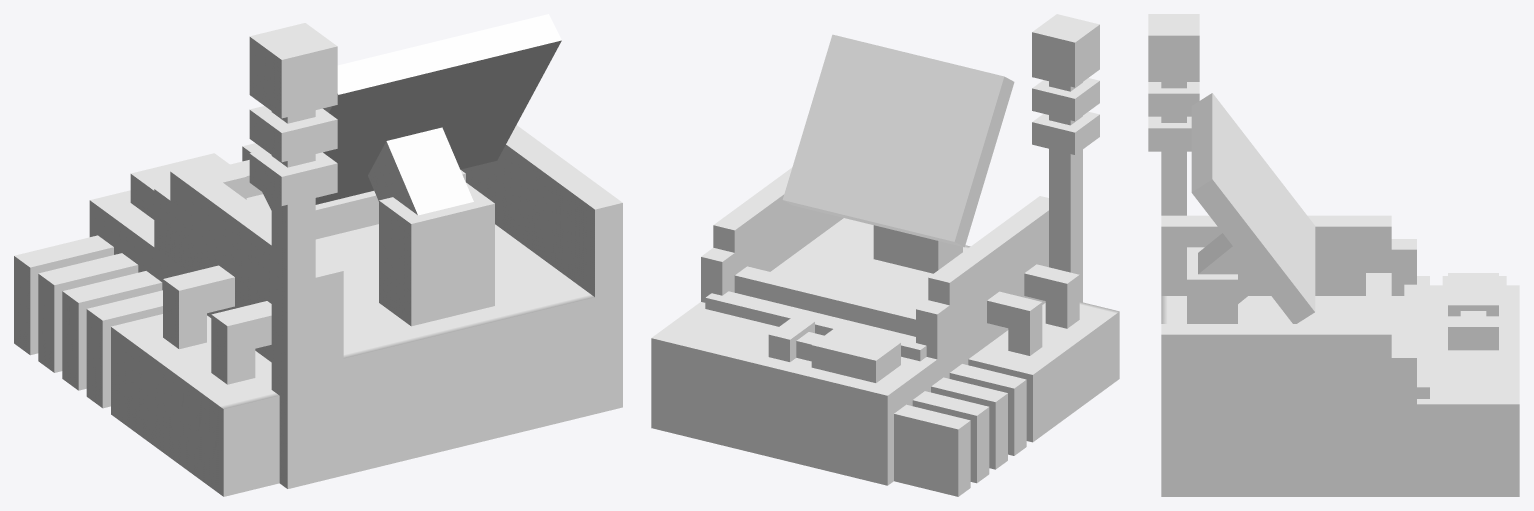
Rendered from radar_station.obj.
3 views of the same model, side by side, from view 1: azimuth 30°, elevation 25°; view 2: azimuth 150°, elevation 25°; view 3: azimuth 270°, elevation 25° (orthographic). The views are drawn at different scales.
Parts seen in each view (by area): view 1: Base, Panel, Battery, LeftPlate, Strut2, RightPlate, SignalPole, SignalRec, Strut1, BatRing2, BatRing3, BatRing4 (+10 smaller); view 2: Base, Panel, Battery, RightPlate, LeftPlate, BatRing4, BaseBump1, SignalPole, SignalRec, BaseBump2, PistonBody, Strut2 (+12 smaller); view 3: Base, LeftPlate, Panel, RightPlate, SignalRec, Strut2, BaseBump2, PistonBody, SignalPole, Strut1, PistonHead, SignalRing1 (+4 smaller).
Part boxes in pixels (x1,y1,x2,y2): Base: [89, 190, 622, 482]; Panel: [262, 14, 561, 210]; Battery: [111, 314, 279, 496]; LeftPlate: [461, 125, 622, 297]; Strut2: [379, 182, 494, 326]; RightPlate: [170, 164, 343, 365]; SignalPole: [271, 110, 315, 488]; SignalRec: [249, 23, 337, 118]; Strut1: [368, 127, 473, 215]; BatRing2: [62, 271, 162, 390]; BatRing3: [38, 253, 138, 372]; BatRing4: [14, 235, 113, 355]; Base: [651, 218, 1045, 485]; Panel: [782, 34, 1014, 247]; Battery: [968, 301, 1119, 442]; RightPlate: [928, 196, 1048, 349]; LeftPlate: [713, 167, 843, 274]; BatRing4: [894, 404, 970, 496]; BaseBump1: [734, 266, 916, 336]; SignalPole: [1049, 81, 1082, 302]; SignalRec: [1032, 14, 1099, 87]; BaseBump2: [705, 291, 926, 361]; PistonBody: [811, 327, 900, 382]; Strut2: [873, 225, 962, 273]; Base: [1161, 285, 1519, 496]; LeftPlate: [1161, 324, 1391, 404]; Panel: [1191, 93, 1315, 323]; RightPlate: [1161, 215, 1391, 295]; SignalRec: [1148, 14, 1199, 81]; Strut2: [1187, 247, 1237, 323]; BaseBump2: [1404, 279, 1429, 398]; PistonBody: [1448, 273, 1498, 316]; SignalPole: [1161, 82, 1186, 215]; Strut1: [1198, 233, 1262, 303]; PistonHead: [1448, 316, 1498, 350]; SignalRing1: [1148, 82, 1199, 116].
Bounding box in the file's own units: 0.875 × 0.9375 × 0.9062.
